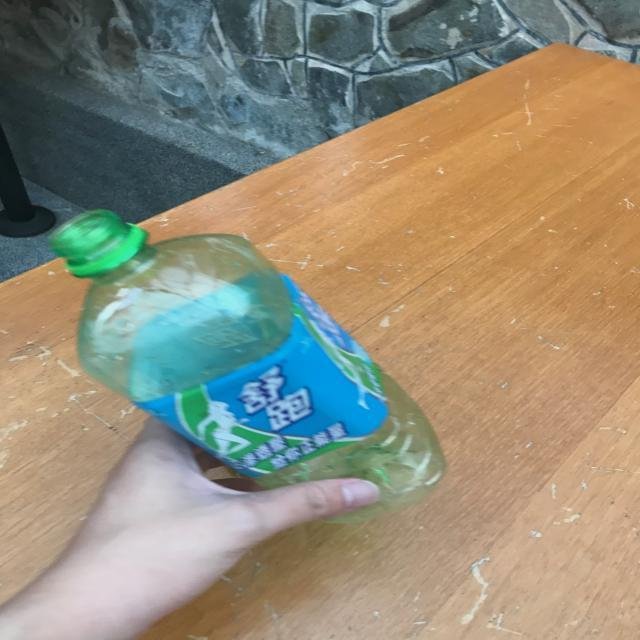plastic_bottle: (45, 209, 444, 524)
